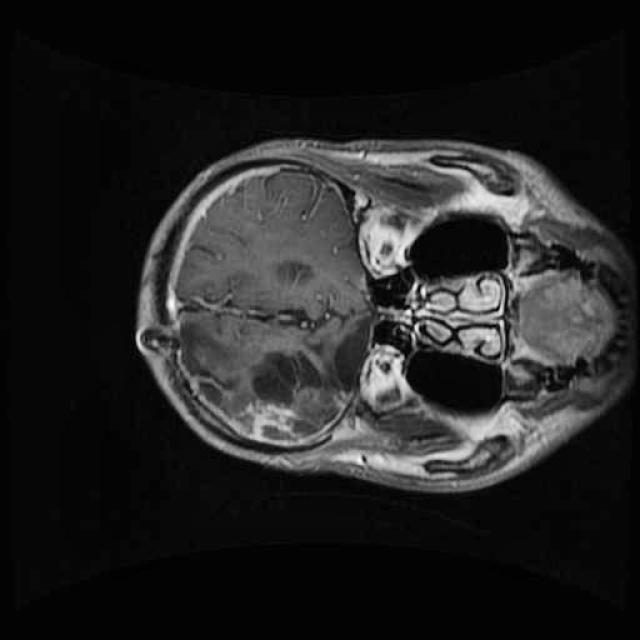Non-Tumor: (246, 329, 354, 459)
